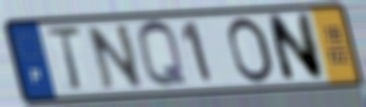1: (179, 19, 215, 85)
N: (264, 11, 327, 85), (83, 22, 146, 93)
O: (226, 15, 278, 86)
Q: (135, 18, 191, 91)
T: (43, 24, 85, 94)
